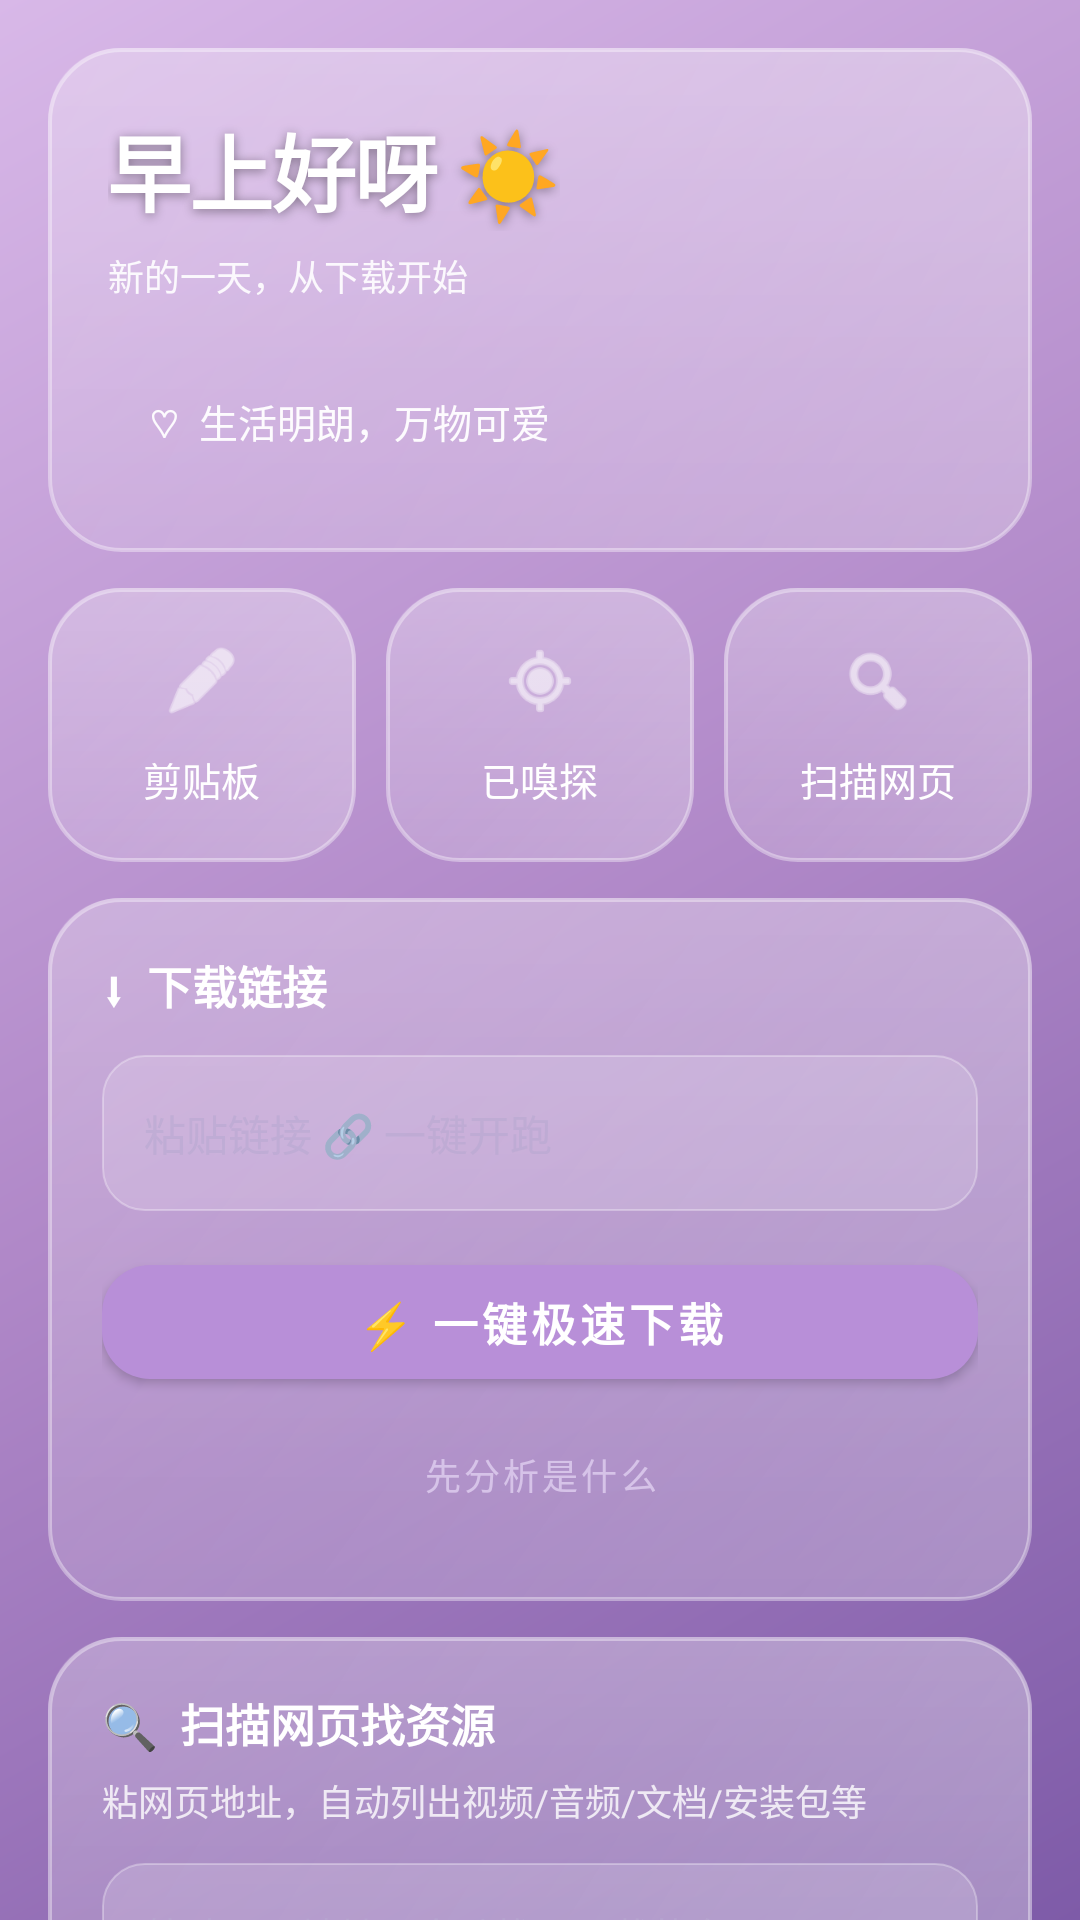

Named icons in this screenshot (1080*1920) and their centers, (x=x, y=y):
edit: (x=201, y=680)
mylocation: (x=540, y=681)
search: (x=878, y=681)
